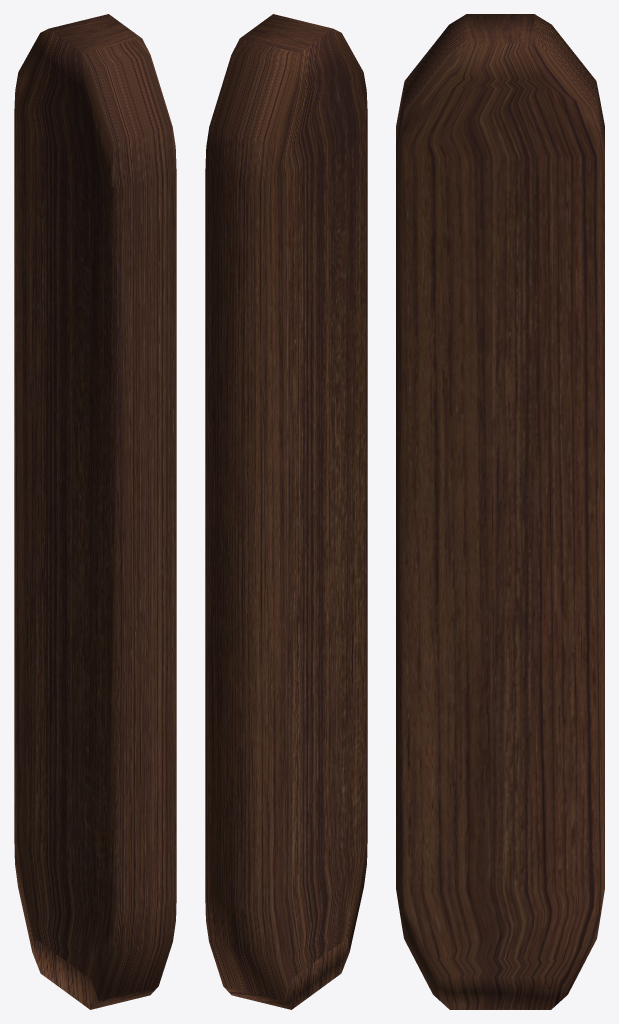
Rendered from WoodSpinningWoodenObj.fbx.
3 renders of one model, left to right at view 1: azimuth 30°, elevation 25°; view 2: azimuth 150°, elevation 25°; view 3: azimuth 270°, elevation 25°, orthographic.
Visible parts, largest first — view 1: Cube; view 2: Cube; view 3: Cube.
Part boxes in pixels (x1,y1,x2,y2): Cube: (14, 14, 176, 1009); Cube: (205, 14, 367, 1009); Cube: (396, 14, 604, 1009).
Size of the model in its own units: 13.77 by 191 by 37.35.
